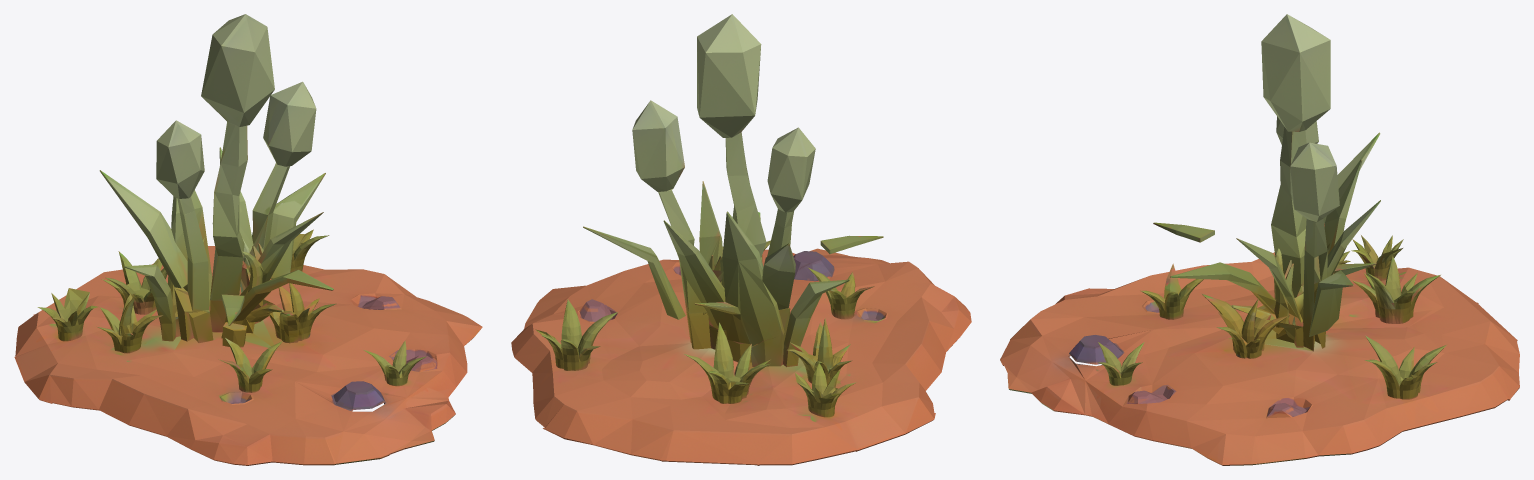
File: grass_1.obj
3 renders of one model, left to right at view 1: azimuth 30°, elevation 25°; view 2: azimuth 150°, elevation 25°; view 3: azimuth 270°, elevation 25°, orthographic. The views are drawn at different scales.
Parts seen in each view (by area): view 1: texture_pbr_v128; view 2: texture_pbr_v128; view 3: texture_pbr_v128.
Boxes of the visible parts, left/top/right/bottom form: texture_pbr_v128: left=14, top=14, right=482, bottom=465; texture_pbr_v128: left=511, top=14, right=971, bottom=465; texture_pbr_v128: left=1000, top=14, right=1519, bottom=465.
Size of the model in its own units: 1.76 by 1.41 by 1.9.
Materials: 1 (1 with a texture image).
